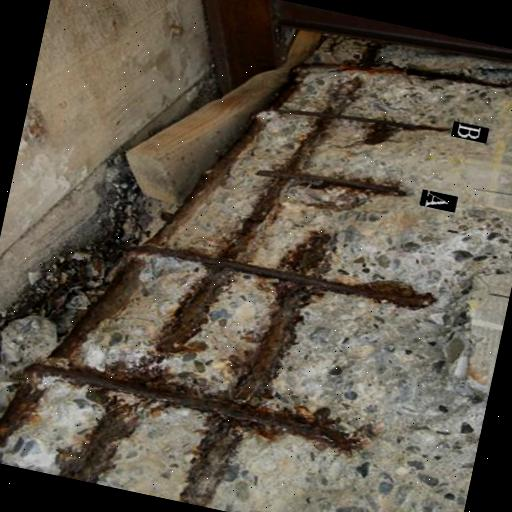spalling: (0, 32, 512, 512)
